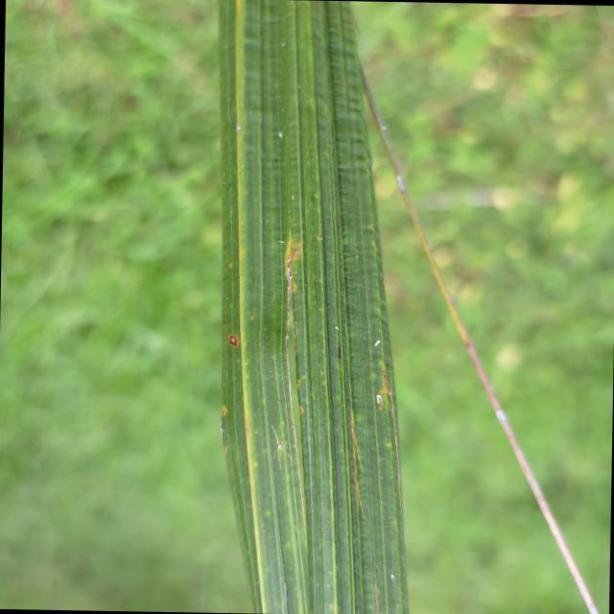Boron: (214, 0, 411, 614)
